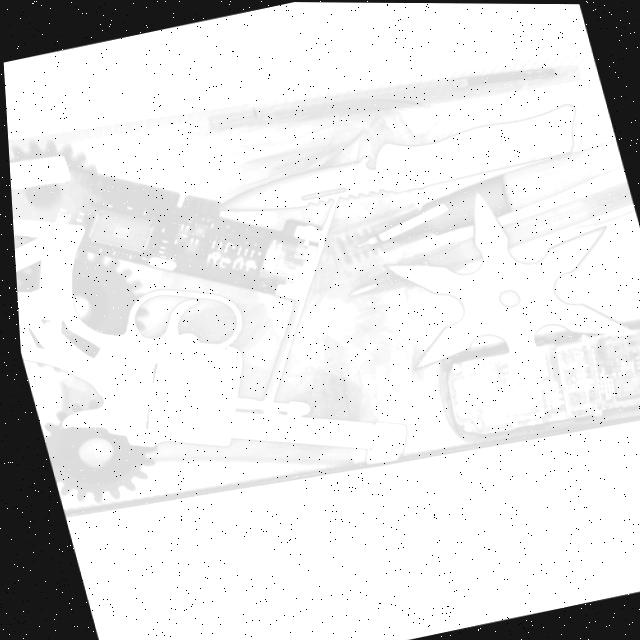knife: (199, 94, 594, 234)
pistol: (7, 147, 413, 528)
